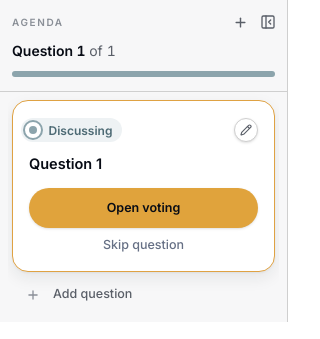
Test: AgendaPanel leader controls (F25/F26) › cancelling the skip confirmation sends nothing
Click the button "Skip question" at x=144, y=245, box [99, 236, 188, 255]
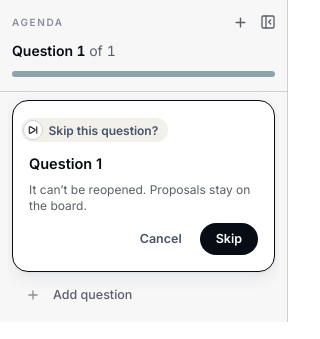
Click the button "Cancel" at x=161, y=239, box [128, 223, 194, 255]
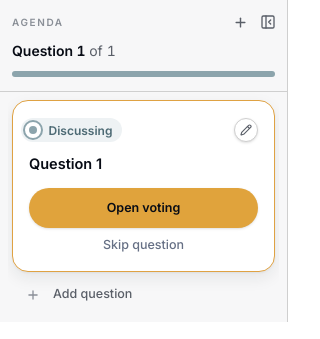
Now the text "Skip this question?" is gone
Now the button "Open voting" is shown, box [29, 188, 258, 228]
